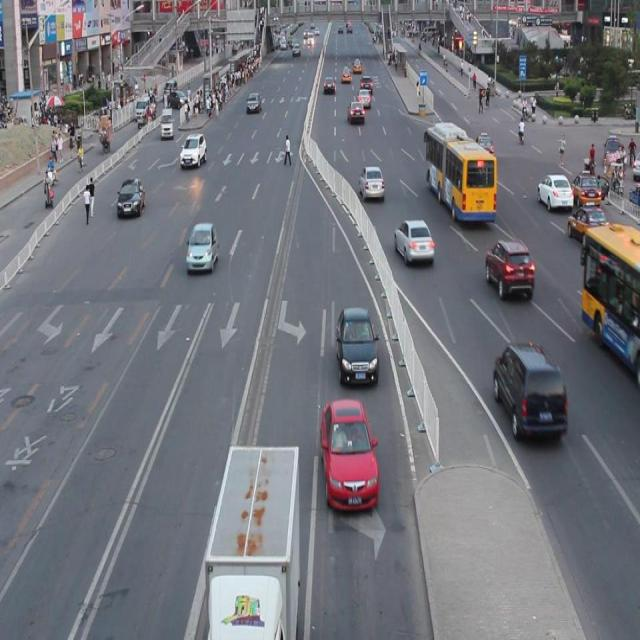bus: (203, 443, 300, 640)
car: (492, 340, 566, 440), (321, 398, 379, 510), (335, 306, 378, 384), (484, 238, 533, 298), (393, 218, 434, 263), (185, 221, 219, 272), (565, 204, 606, 245), (116, 176, 146, 220), (536, 173, 571, 209), (568, 170, 600, 208), (358, 166, 383, 198)
van: (580, 225, 640, 376), (425, 126, 496, 222)
